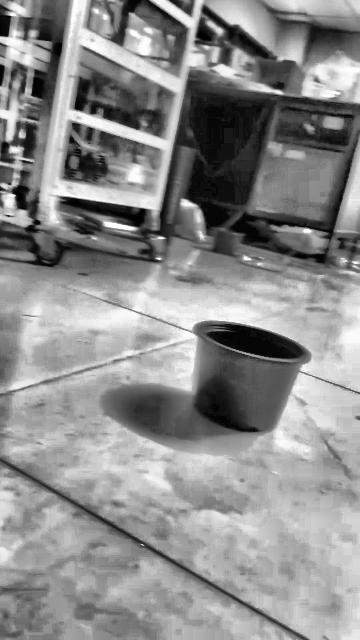pot: (193, 321, 309, 432)
